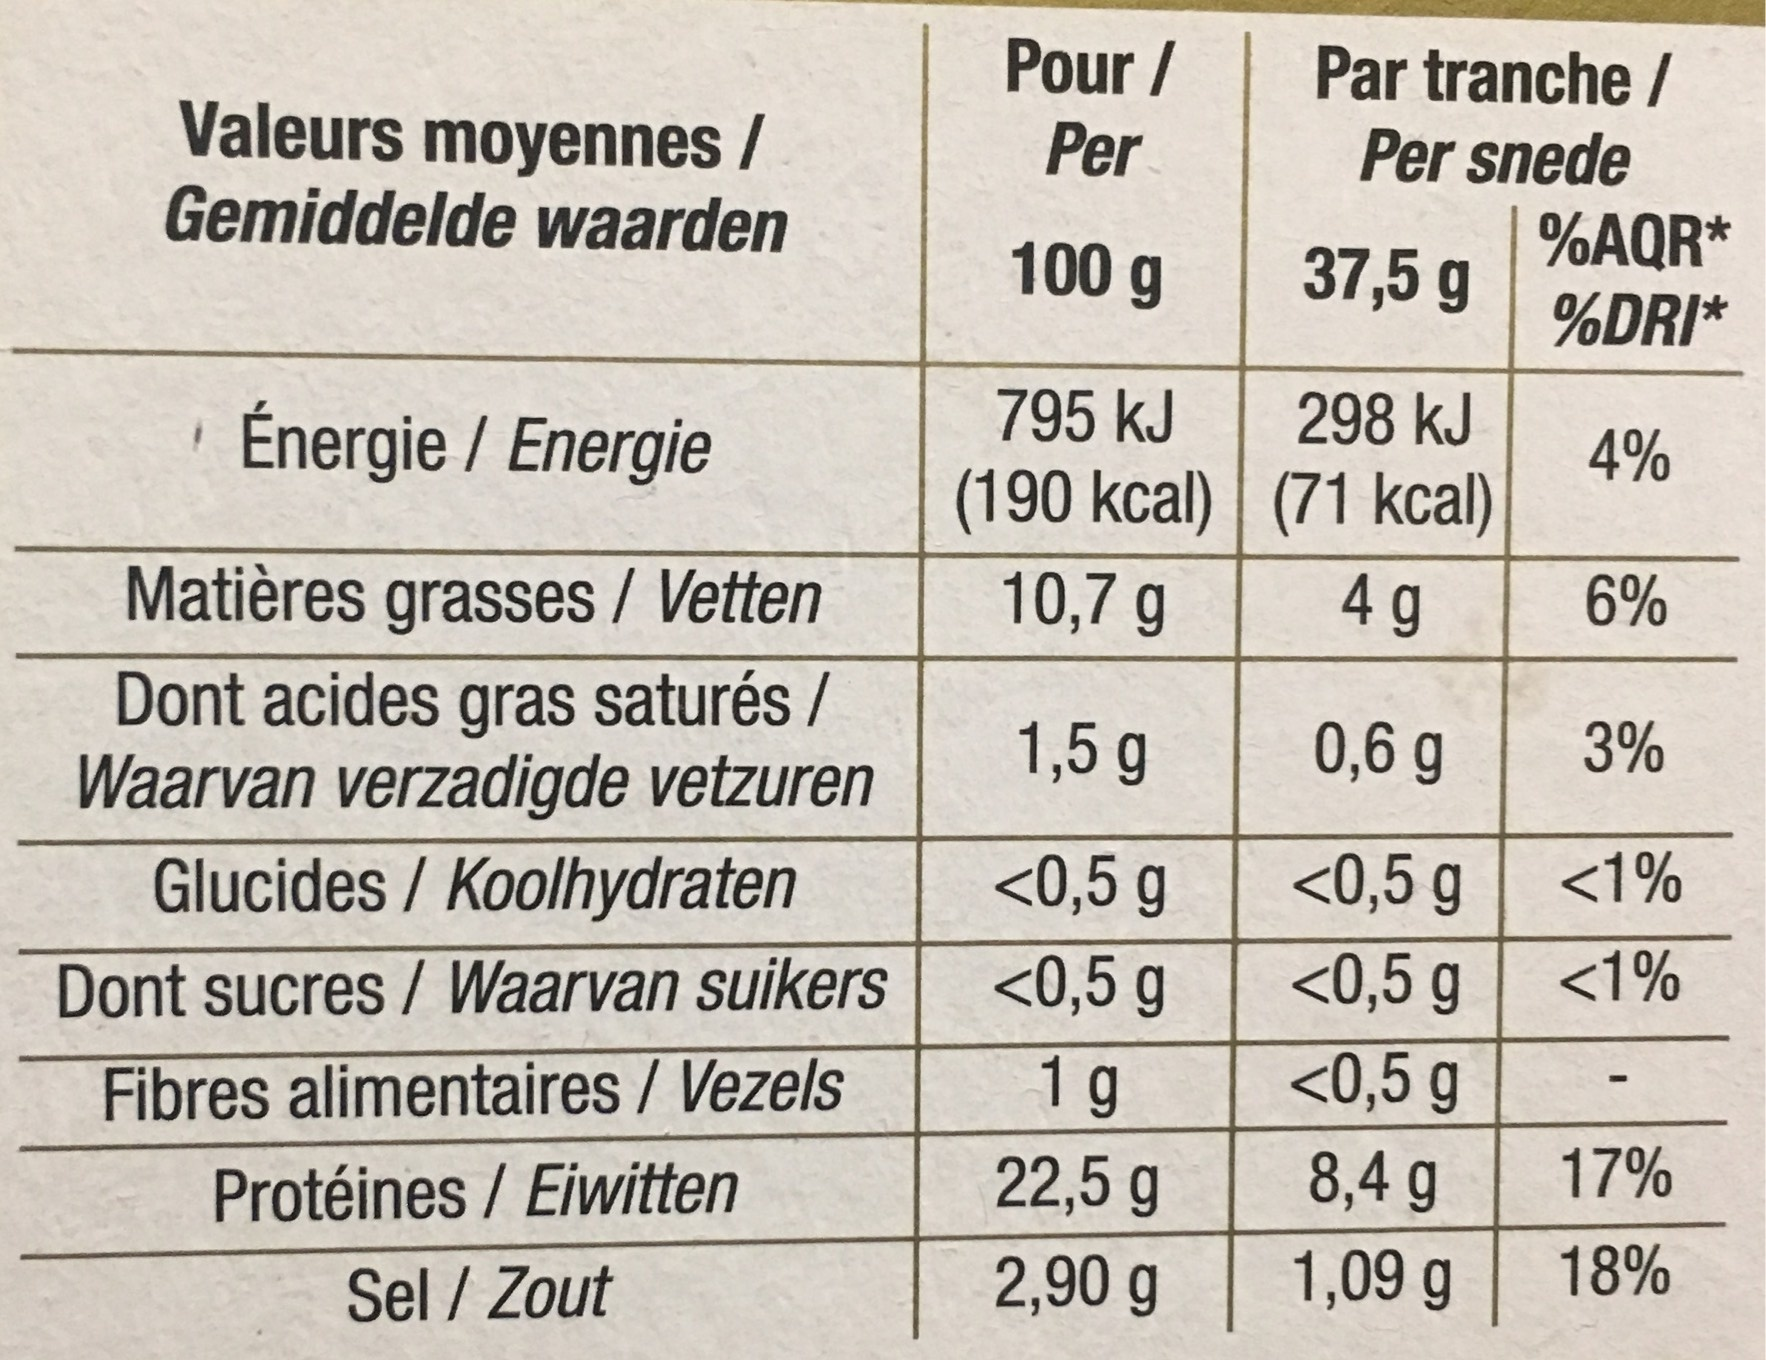column: (61, 81, 890, 1321), (947, 31, 1224, 1320), (1272, 221, 1495, 1324), (1523, 206, 1736, 1326)
table: (40, 16, 1746, 1343)
